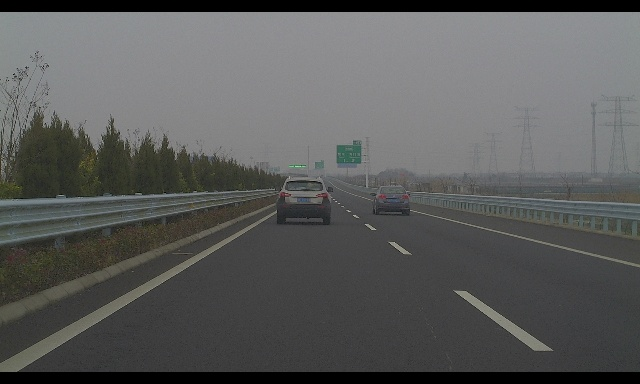car: (275, 176, 333, 225), (370, 185, 410, 215), (389, 182, 402, 189)
